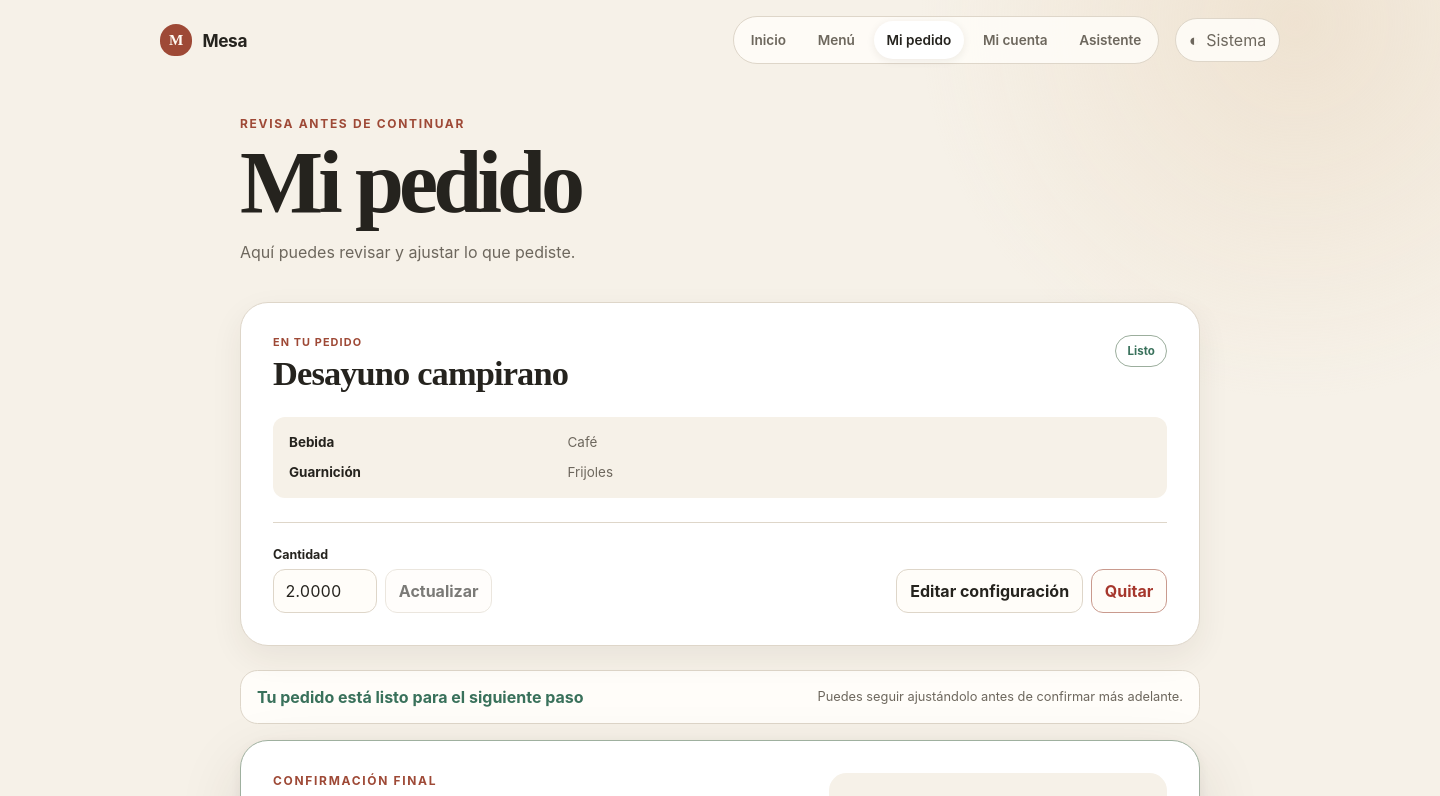
Test: draft review › re-reads and presents newer authoritative state after a version conflict
The width and height of the screenshot is (1440, 796).
Replace the text in the field labelled "Cantidad" with "3" at (325, 591), box [273,569,377,613]
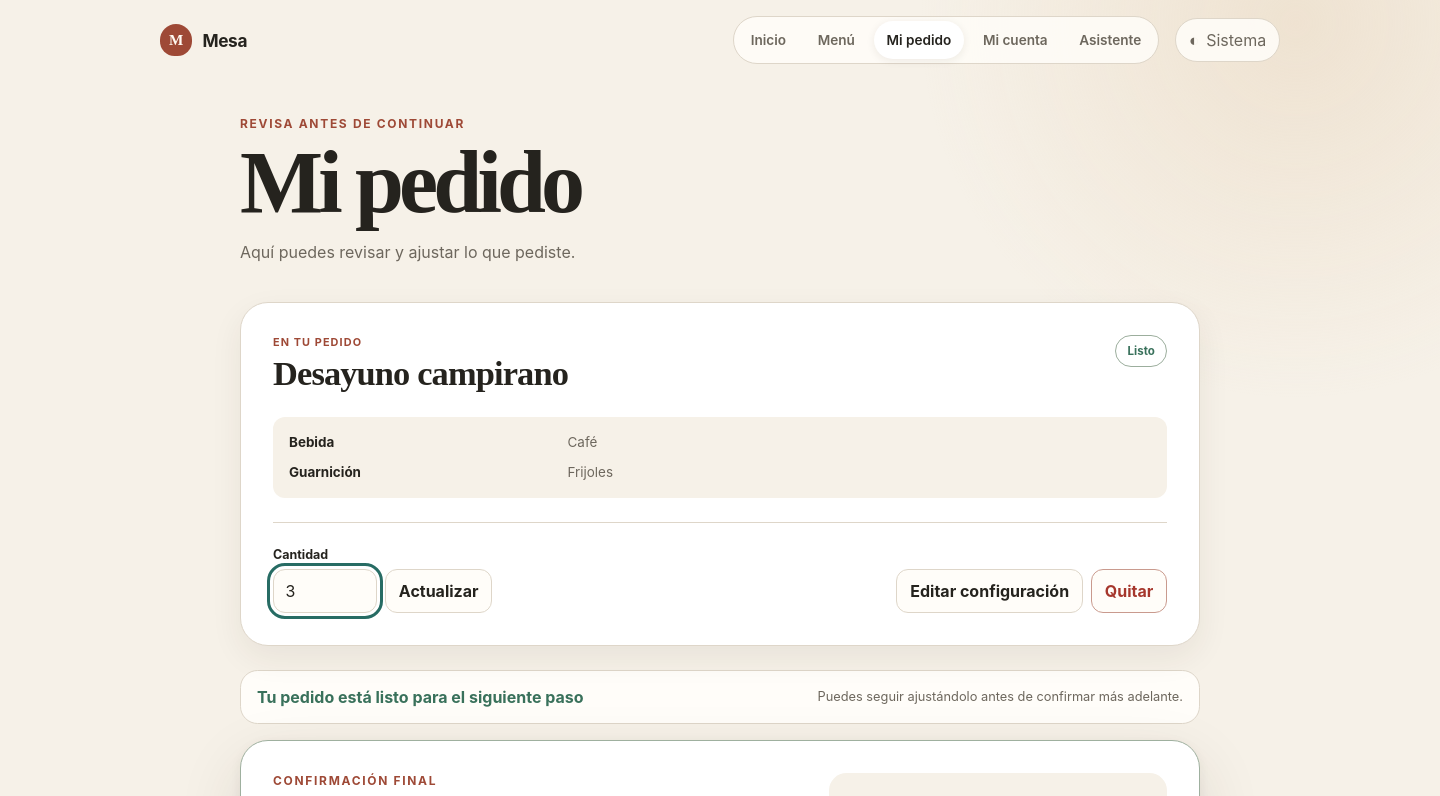
Click the button "Actualizar" at (439, 591), box [385,569,492,613]
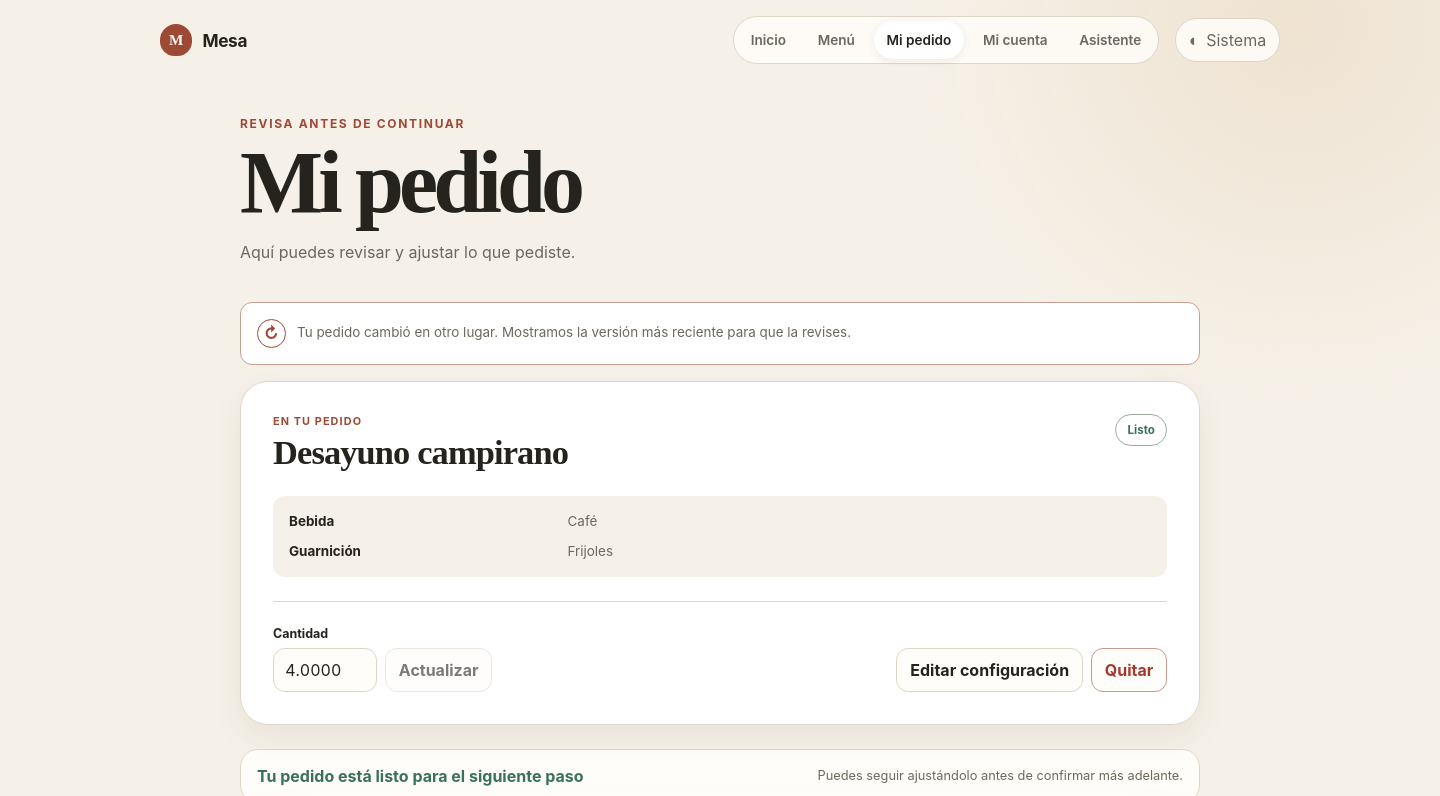
expect the text "cambió en otro lugar" is shown: met, box [297,324,851,340]
expect the field showing "4.0000" is shown: met, box [273,648,377,692]
